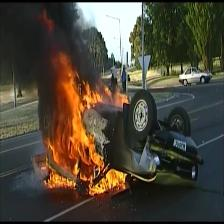fire: (42, 9, 130, 197)
